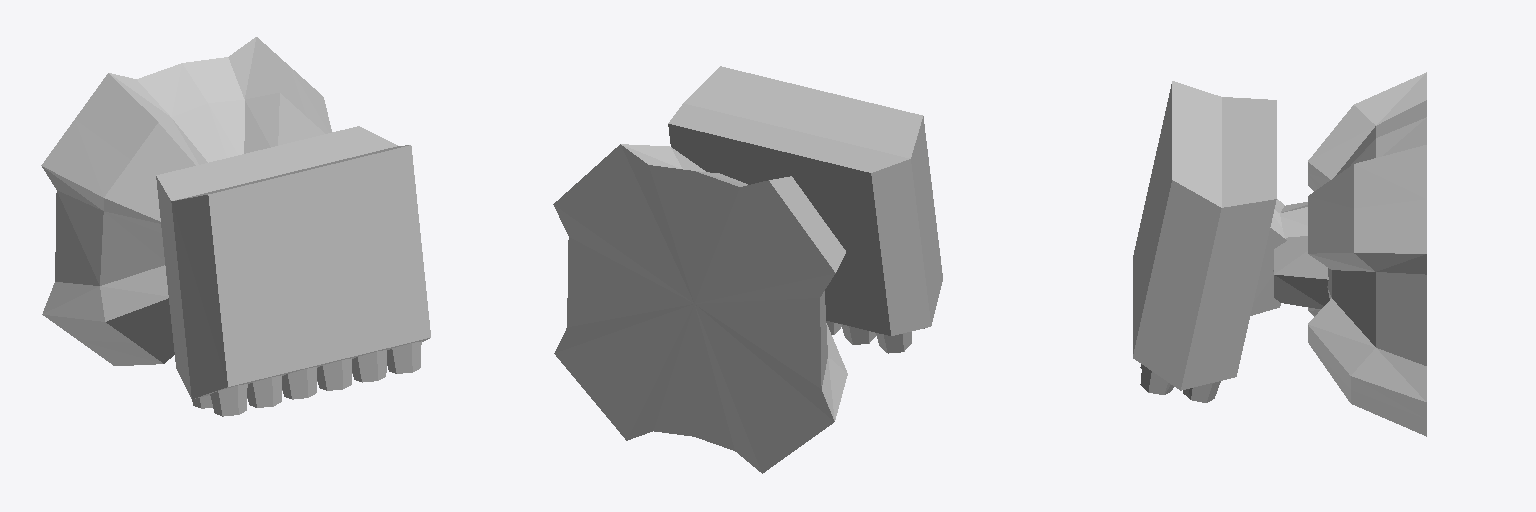
File: r-launcher-01.obj
3 renders of one model, left to right at view 1: azimuth 30°, elevation 25°; view 2: azimuth 150°, elevation 25°; view 3: azimuth 270°, elevation 25°, orthographic.
Visible parts, largest first — view 1: r_launcher_01; view 2: r_launcher_01; view 3: r_launcher_01.
Boxes of the visible parts, x1,y1,x2,y2 form: r_launcher_01: [41, 37, 430, 416]; r_launcher_01: [553, 66, 942, 473]; r_launcher_01: [1133, 72, 1426, 436].
Size of the model in its own units: 4.1 by 4.1 by 3.71.